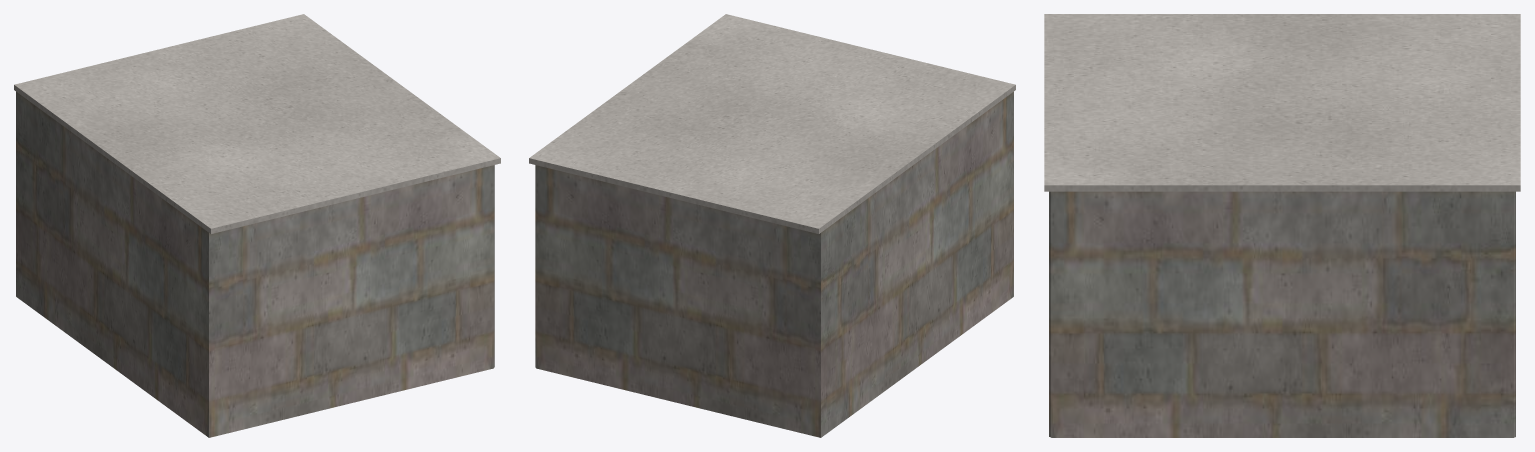
The model's file is floor_vault_e30_0_0_0.glb.
3 renders of one model, left to right at view 1: azimuth 30°, elevation 25°; view 2: azimuth 150°, elevation 25°; view 3: azimuth 270°, elevation 25°, orthographic. The views are drawn at different scales.
Parts seen in each view (by area): view 1: floor_vault_e30_0_0_0_granite, floor_vault_e30_0_0_0_concrete; view 2: floor_vault_e30_0_0_0_granite, floor_vault_e30_0_0_0_concrete; view 3: floor_vault_e30_0_0_0_granite, floor_vault_e30_0_0_0_concrete.
Boxes of the visible parts, box(x1,y1,x2,y2) form: floor_vault_e30_0_0_0_granite: box(16, 92, 494, 437); floor_vault_e30_0_0_0_concrete: box(14, 14, 500, 233); floor_vault_e30_0_0_0_granite: box(535, 92, 1013, 437); floor_vault_e30_0_0_0_concrete: box(529, 14, 1015, 233); floor_vault_e30_0_0_0_granite: box(1049, 191, 1515, 437); floor_vault_e30_0_0_0_concrete: box(1044, 14, 1520, 191).
Bounding box in the file's own units: 1.7 × 1.18 × 2.
2 materials, 2 textured.
